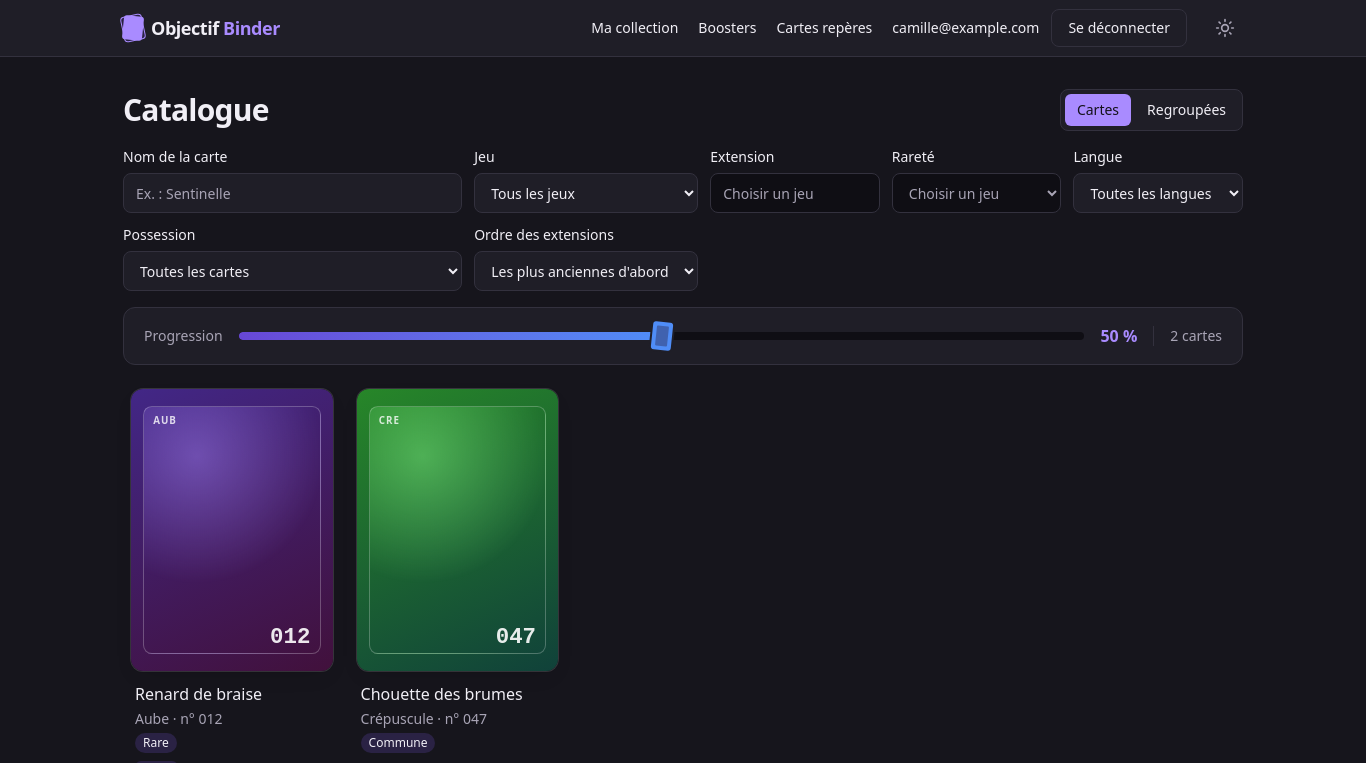
Test case: ownership filter of the catalogue › is what "Ma collection" in the header leads to
Click the link "Ma collection".
click(635, 28)  # box x1=591 y1=18 x2=678 y2=38
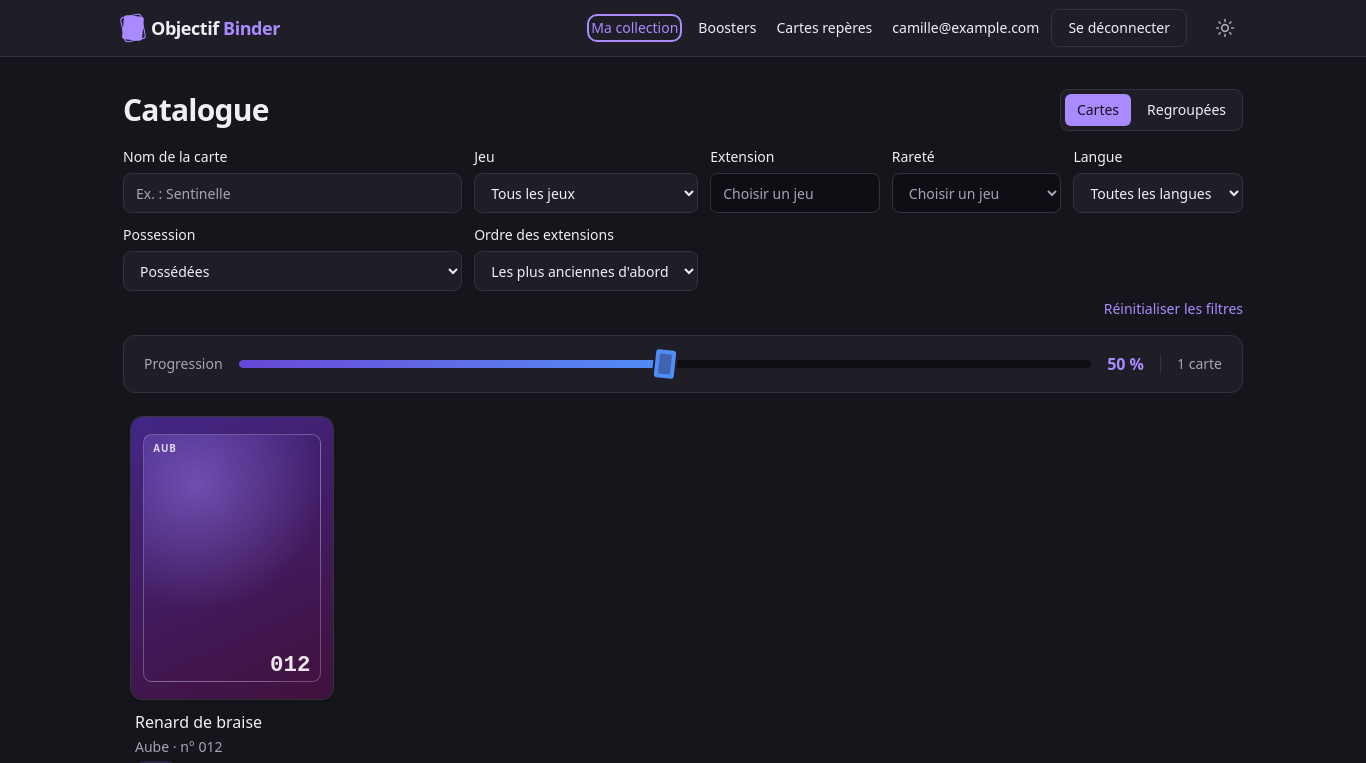
Now the dropdown labelled "Possession" shows "Possédées", box x1=123 y1=251 x2=462 y2=291
